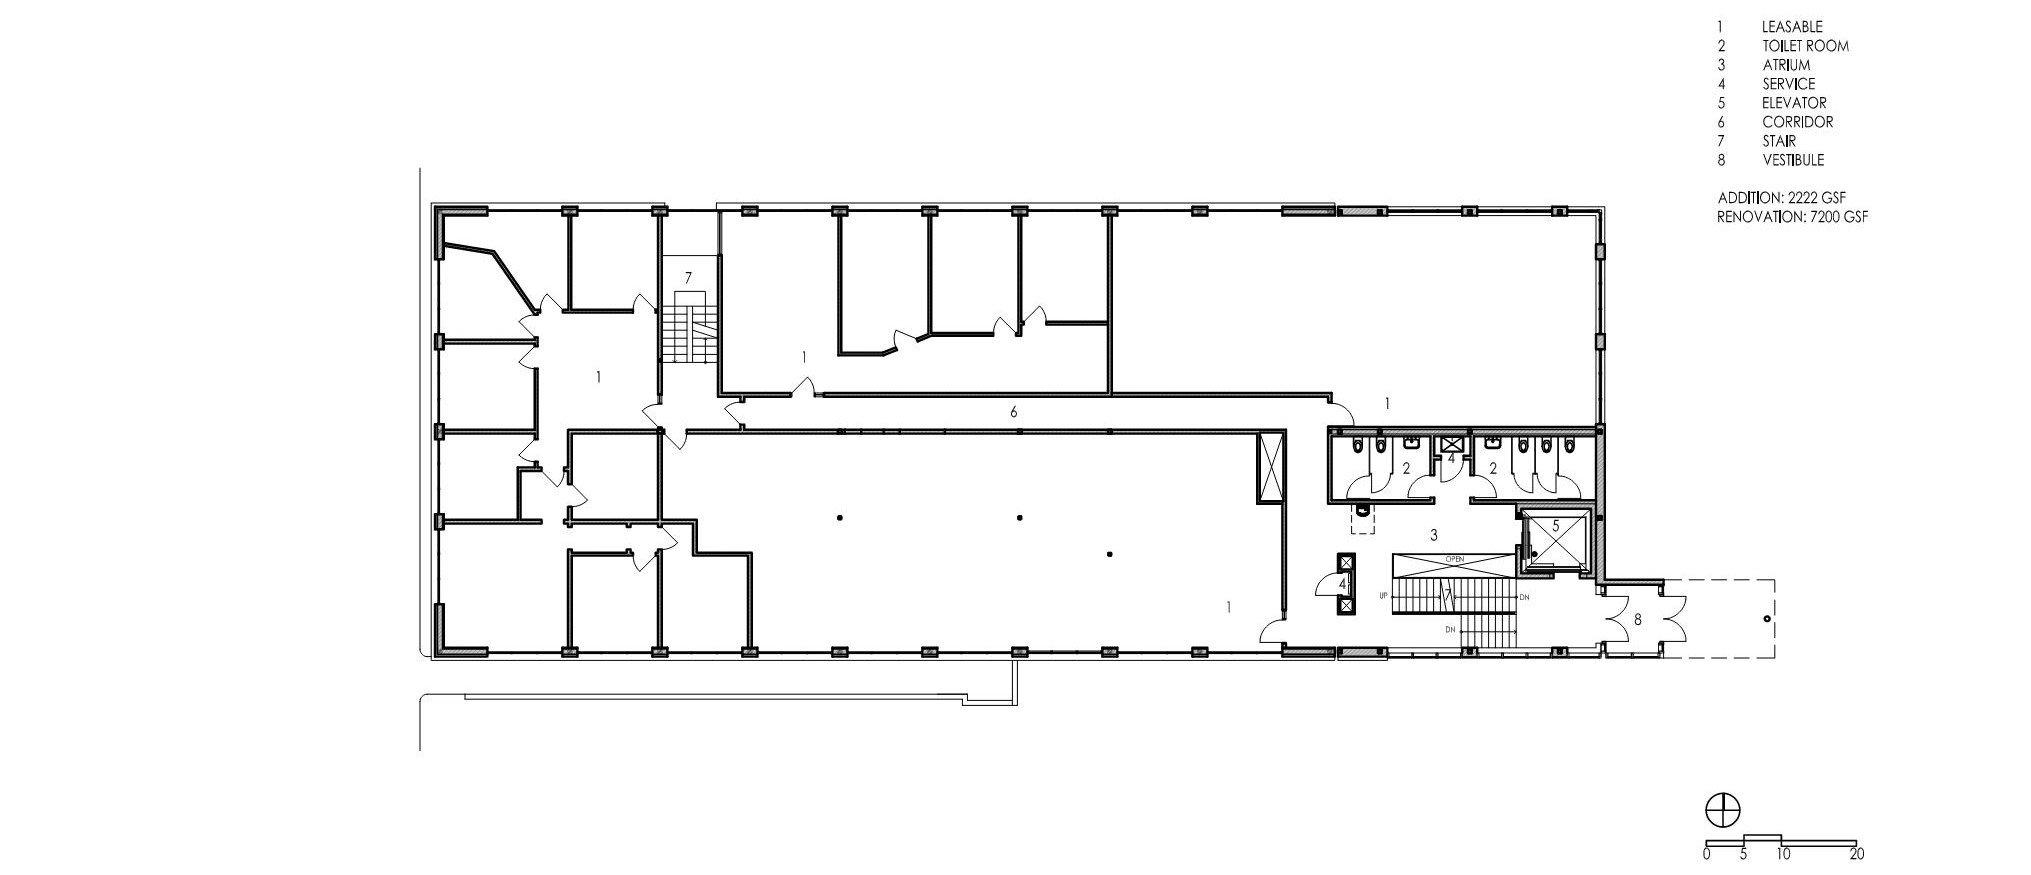room: (659, 431, 1284, 655), (1110, 208, 1601, 430), (719, 210, 1113, 395), (1332, 431, 1601, 501), (839, 210, 929, 355), (930, 210, 1022, 334), (1019, 210, 1109, 324), (570, 551, 661, 652), (570, 211, 661, 311), (439, 340, 536, 432), (439, 432, 538, 522), (570, 431, 661, 522)
